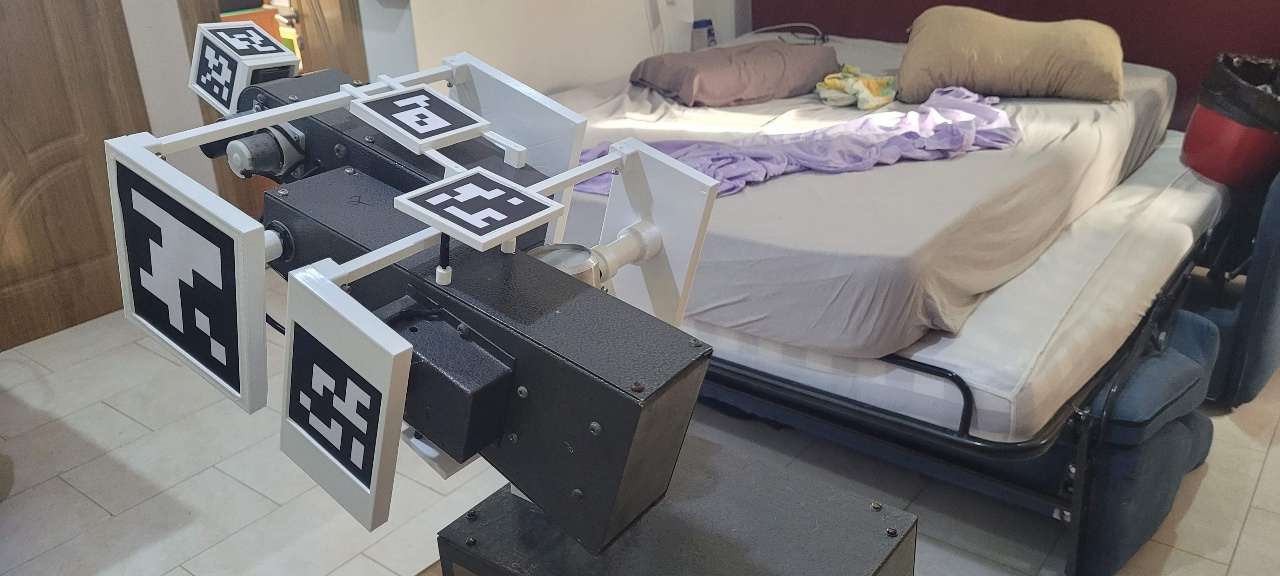Robot: (102, 21, 721, 559)
